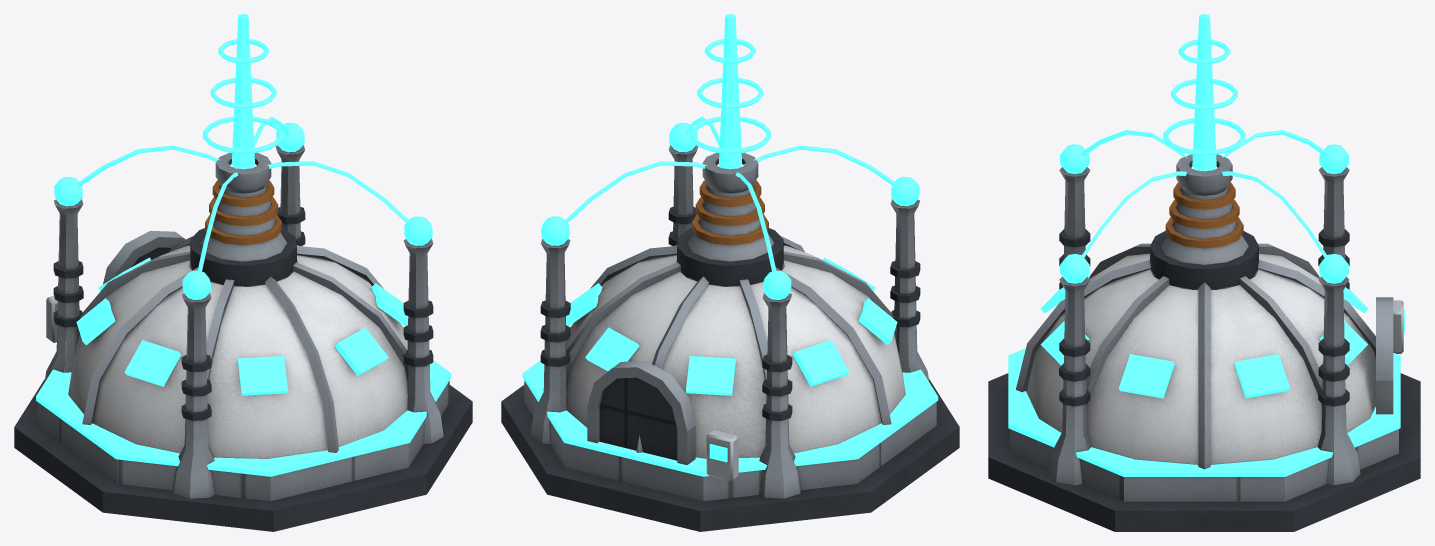
Rendered from estacion_escudos.fbx.
3 views of the same model, side by side, from view 1: azimuth 30°, elevation 25°; view 2: azimuth 150°, elevation 25°; view 3: azimuth 270°, elevation 25° (orthographic).
Visible parts, largest first — view 1: estacion_escudos, estacion_escudos_neon, estacion_escudos_rayo_neon, estacion_escudos_arcos_neon, estacion_escudos_anillos_neon; view 2: estacion_escudos, estacion_escudos_neon, estacion_escudos_puerta, estacion_escudos_rayo_neon, estacion_escudos_arcos_neon, estacion_escudos_anillos_neon; view 3: estacion_escudos, estacion_escudos_neon, estacion_escudos_rayo_neon, estacion_escudos_arcos_neon, estacion_escudos_anillos_neon.
Part boxes in pixels (box(x1,y1,x2,y2)): estacion_escudos: box(14, 145, 472, 531); estacion_escudos_neon: box(36, 122, 451, 476); estacion_escudos_rayo_neon: box(231, 14, 254, 169); estacion_escudos_arcos_neon: box(78, 116, 408, 271); estacion_escudos_anillos_neon: box(203, 39, 283, 153); estacion_escudos: box(501, 145, 959, 531); estacion_escudos_neon: box(522, 122, 938, 476); estacion_escudos_puerta: box(599, 377, 677, 460); estacion_escudos_rayo_neon: box(718, 14, 741, 169); estacion_escudos_arcos_neon: box(565, 116, 895, 271); estacion_escudos_anillos_neon: box(690, 39, 770, 153); estacion_escudos: box(988, 154, 1420, 531); estacion_escudos_neon: box(1008, 144, 1400, 476); estacion_escudos_rayo_neon: box(1192, 14, 1216, 171); estacion_escudos_arcos_neon: box(1081, 130, 1327, 257); estacion_escudos_anillos_neon: box(1163, 39, 1245, 155).
Bounding box in the file's own units: 5.54 × 6 × 5.54.
Materials: 2 (2 with a texture image).
